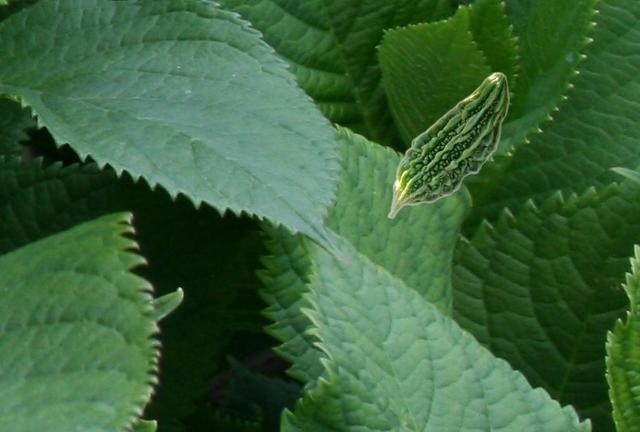ampalaya: (386, 71, 511, 221)
